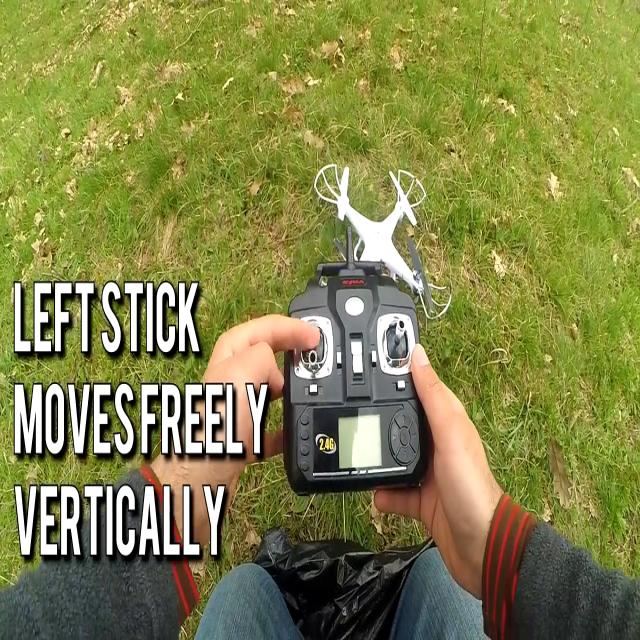drones: (306, 145, 456, 363)
